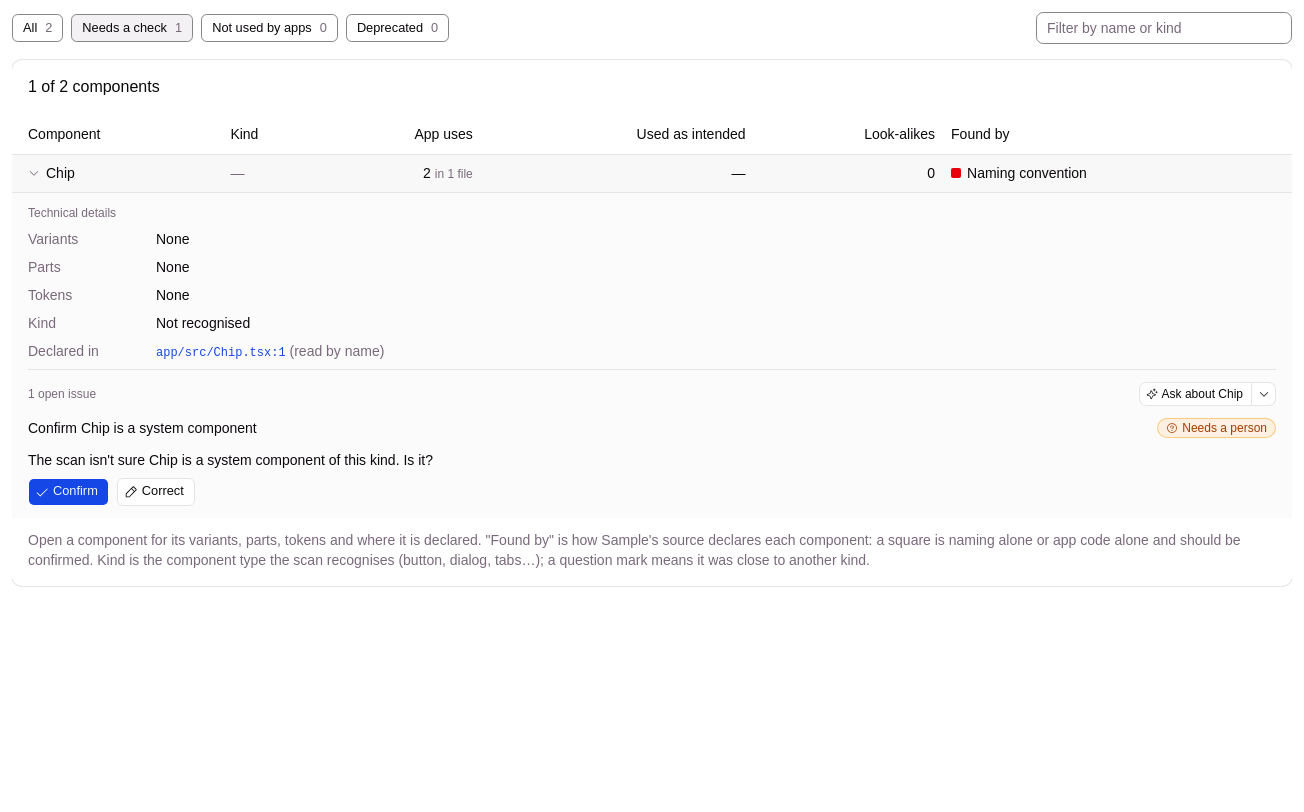
Components: a doubted component can be confirmed, and it leaves Needs a check
Step 1. Click the button "Confirm" → point(68, 492), box [28, 478, 109, 506]
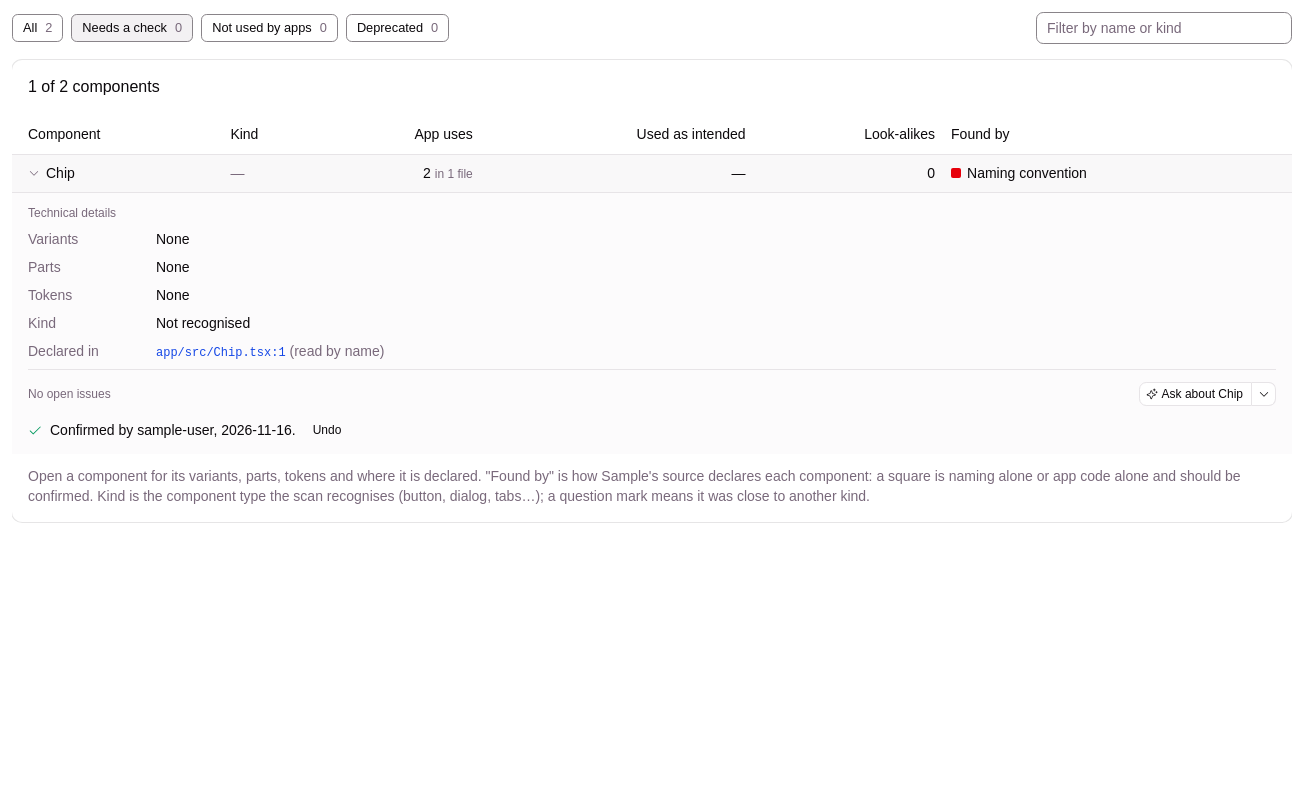
Expected: the text "Confirmed by sample-user" is shown, [28, 418, 350, 442]
Expected: the button with aria-label "Needs a check" shows "0", [71, 14, 193, 42]
